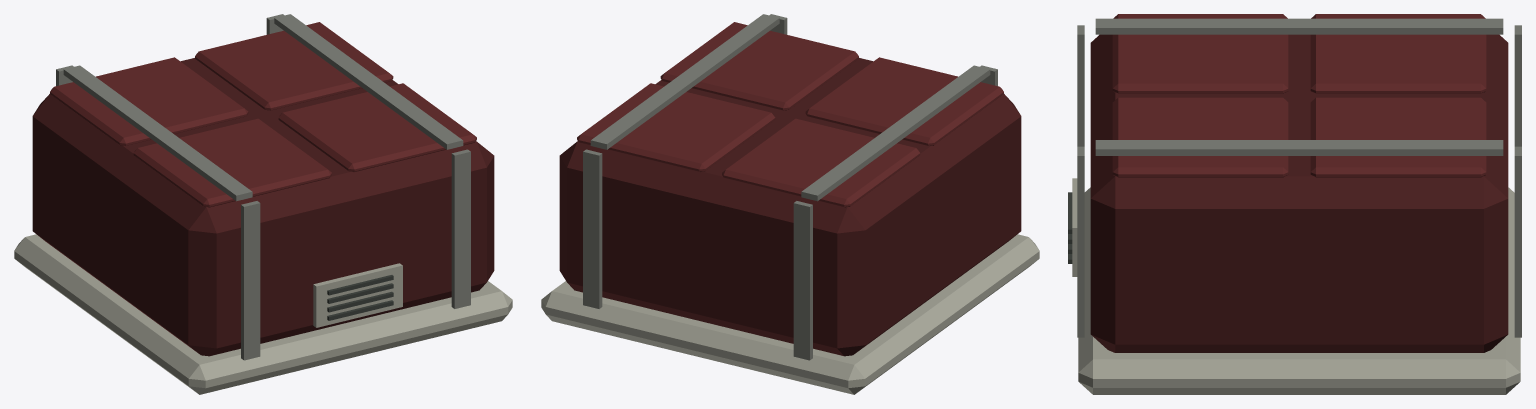
File: chemfuel_tank.obj
3 views of the same model, side by side, from view 1: azimuth 30°, elevation 25°; view 2: azimuth 150°, elevation 25°; view 3: azimuth 270°, elevation 25° (orthographic). The views are drawn at different scales.
Parts seen in each view (by area): view 1: chemfuel_tank; view 2: chemfuel_tank; view 3: chemfuel_tank.
Part boxes in pixels (x1,y1,x2,y2): chemfuel_tank: (14, 14, 512, 394); chemfuel_tank: (541, 14, 1039, 394); chemfuel_tank: (1068, 14, 1521, 394).
Bounding box in the file's own units: 1.8 × 1 × 1.85.
